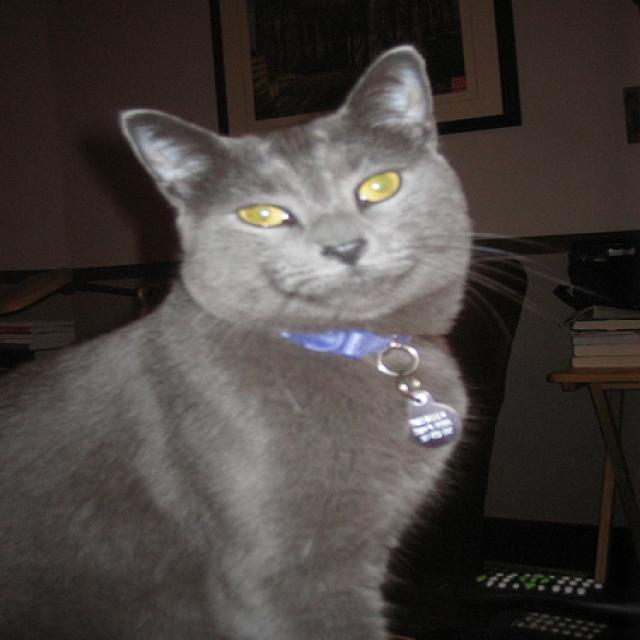left eye: (353, 168, 403, 205)
